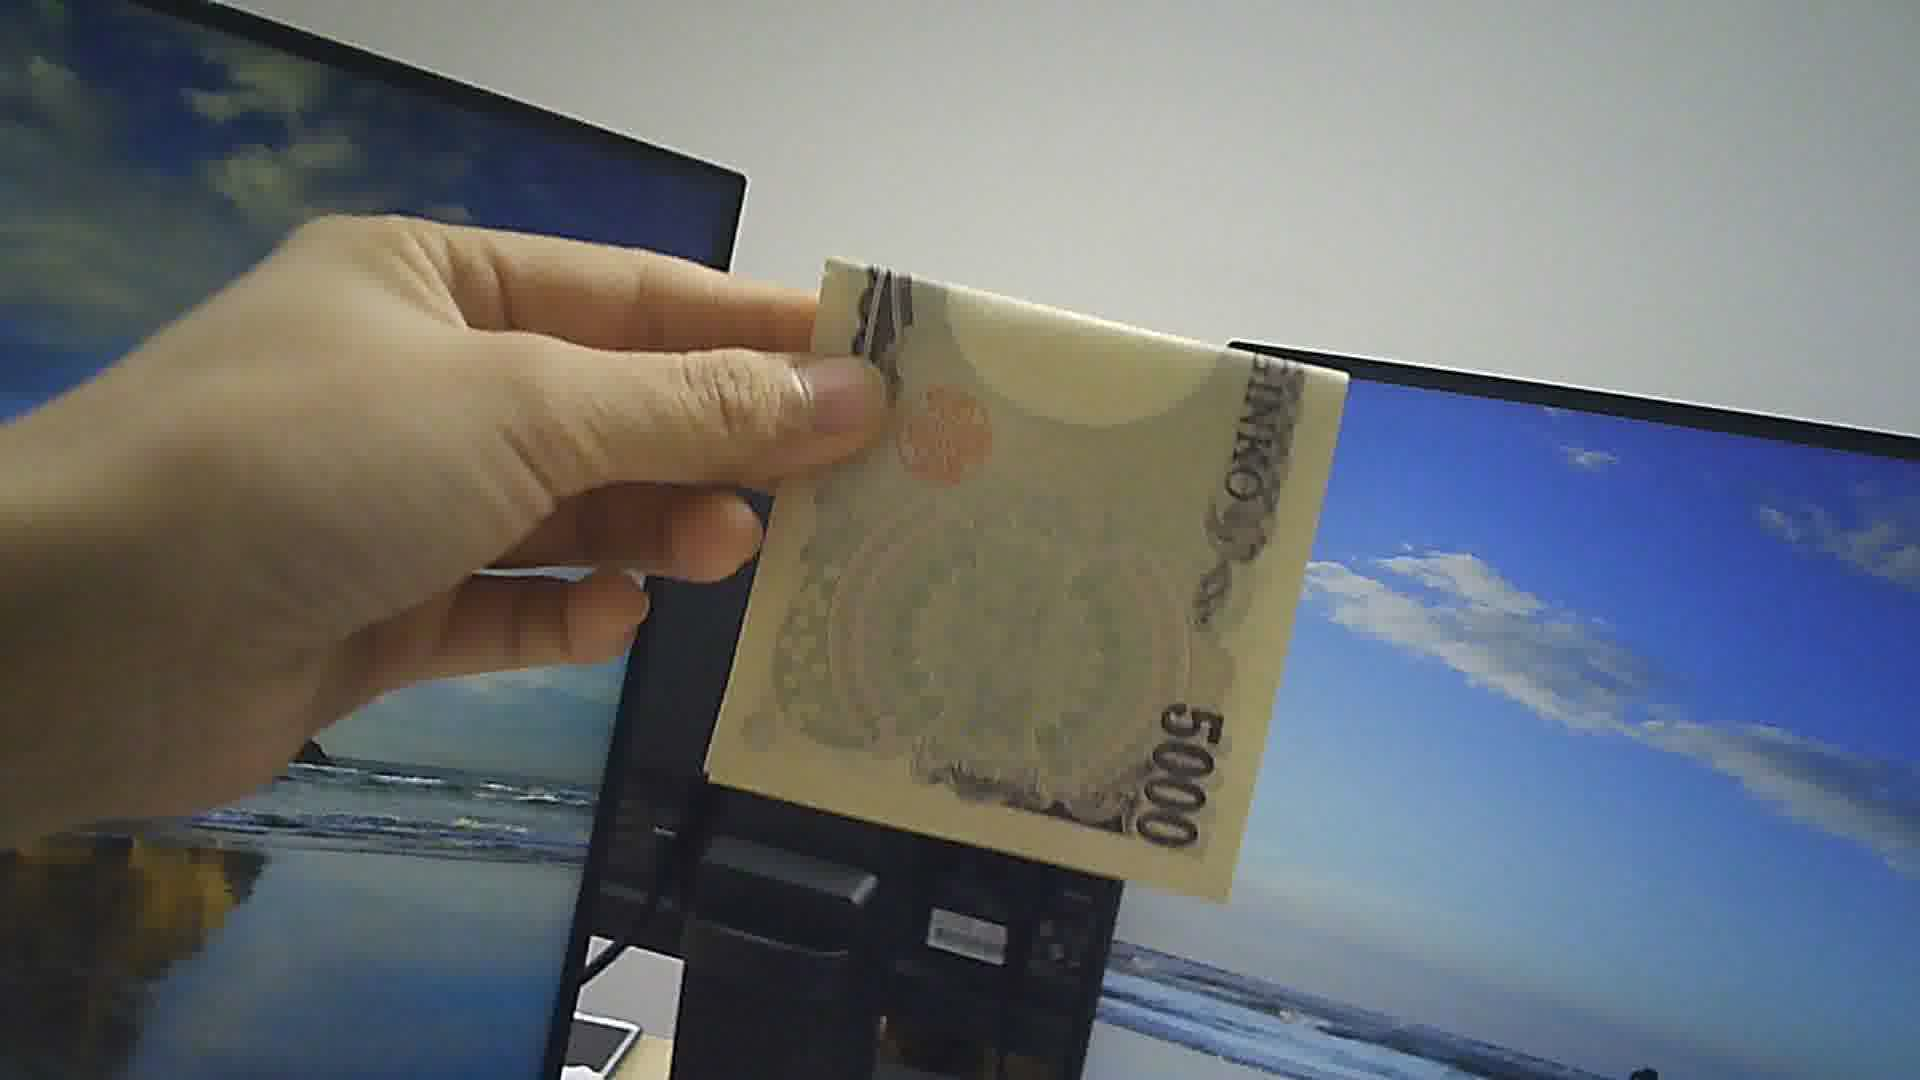5,000 Yen: (717, 244, 1371, 951)
